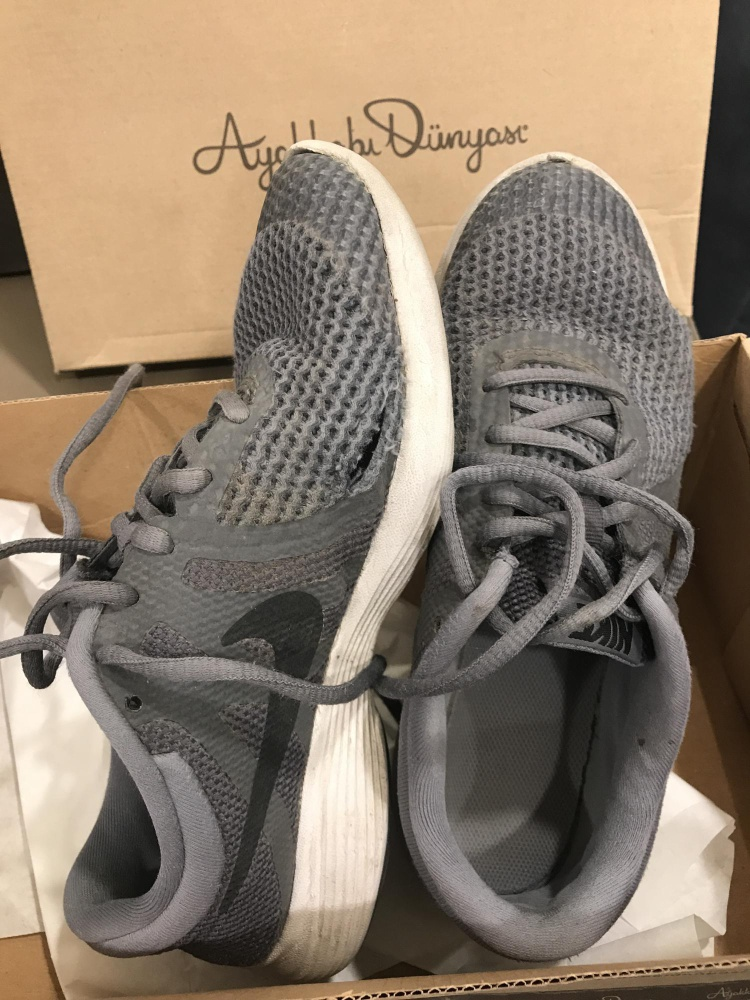nike: (212, 583, 327, 916)
